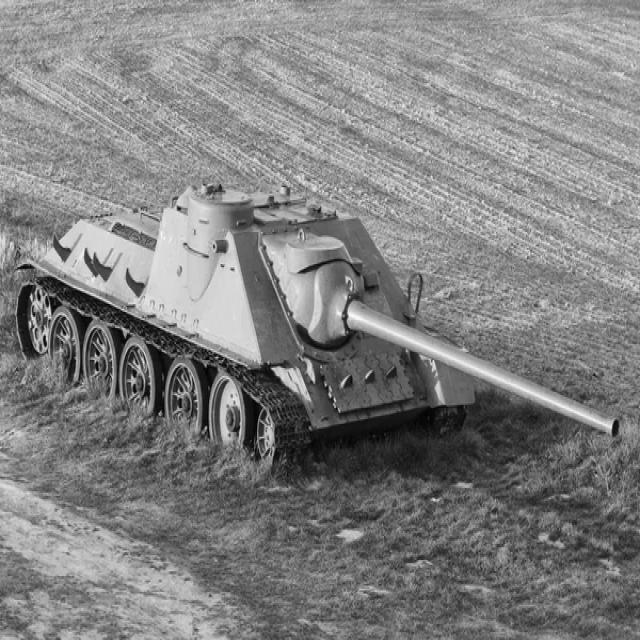Tank: (23, 171, 626, 461)
